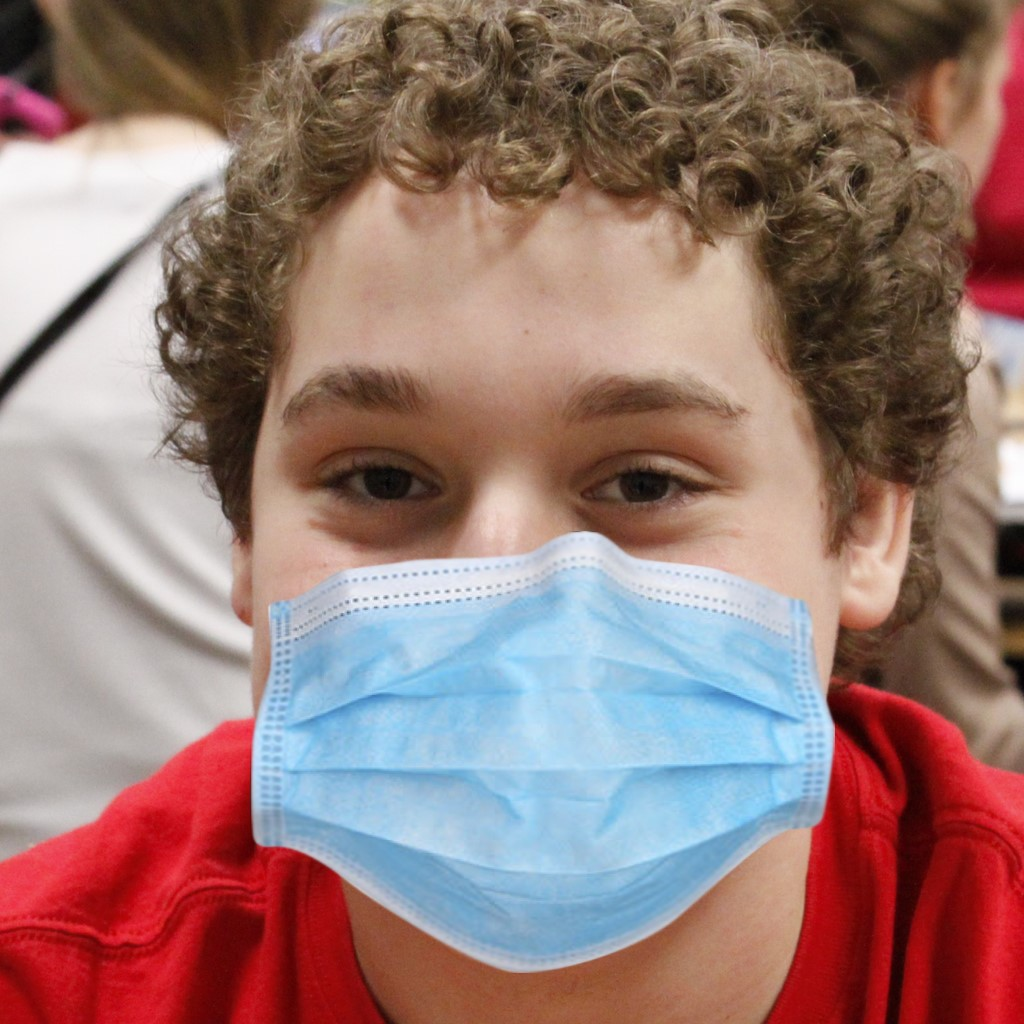con_mascara: (174, 97, 874, 943)
